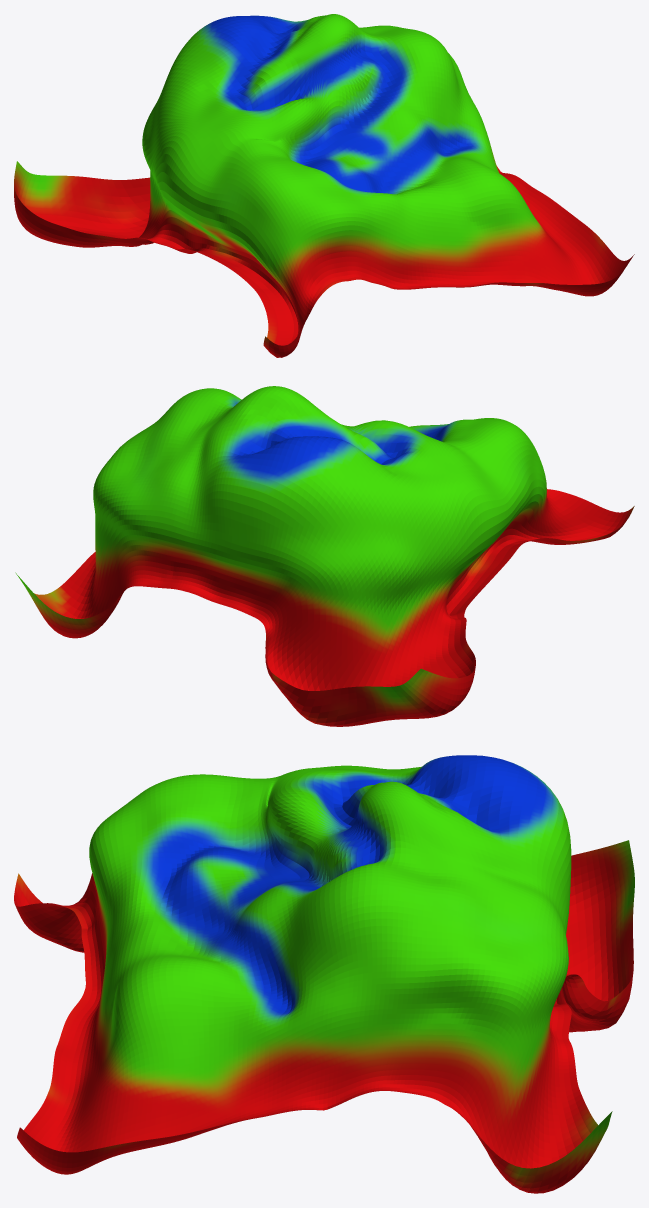
The model's file is cxaxsaxs.fbx.
The picture shows the model from 3 angles, top to bottom: view 1: azimuth 30°, elevation 25°; view 2: azimuth 150°, elevation 25°; view 3: azimuth 270°, elevation 25°; orthographic projection. The views are drawn at different scales.
Parts seen in each view (by area): view 1: Plane; view 2: Plane; view 3: Plane.
Boxes of the visible parts, box(x1,y1,x2,y2) form: Plane: box(14, 14, 634, 357); Plane: box(15, 386, 634, 726); Plane: box(14, 755, 634, 1193).
Bounding box in the file's own units: 21933 × 12072 × 21092.
